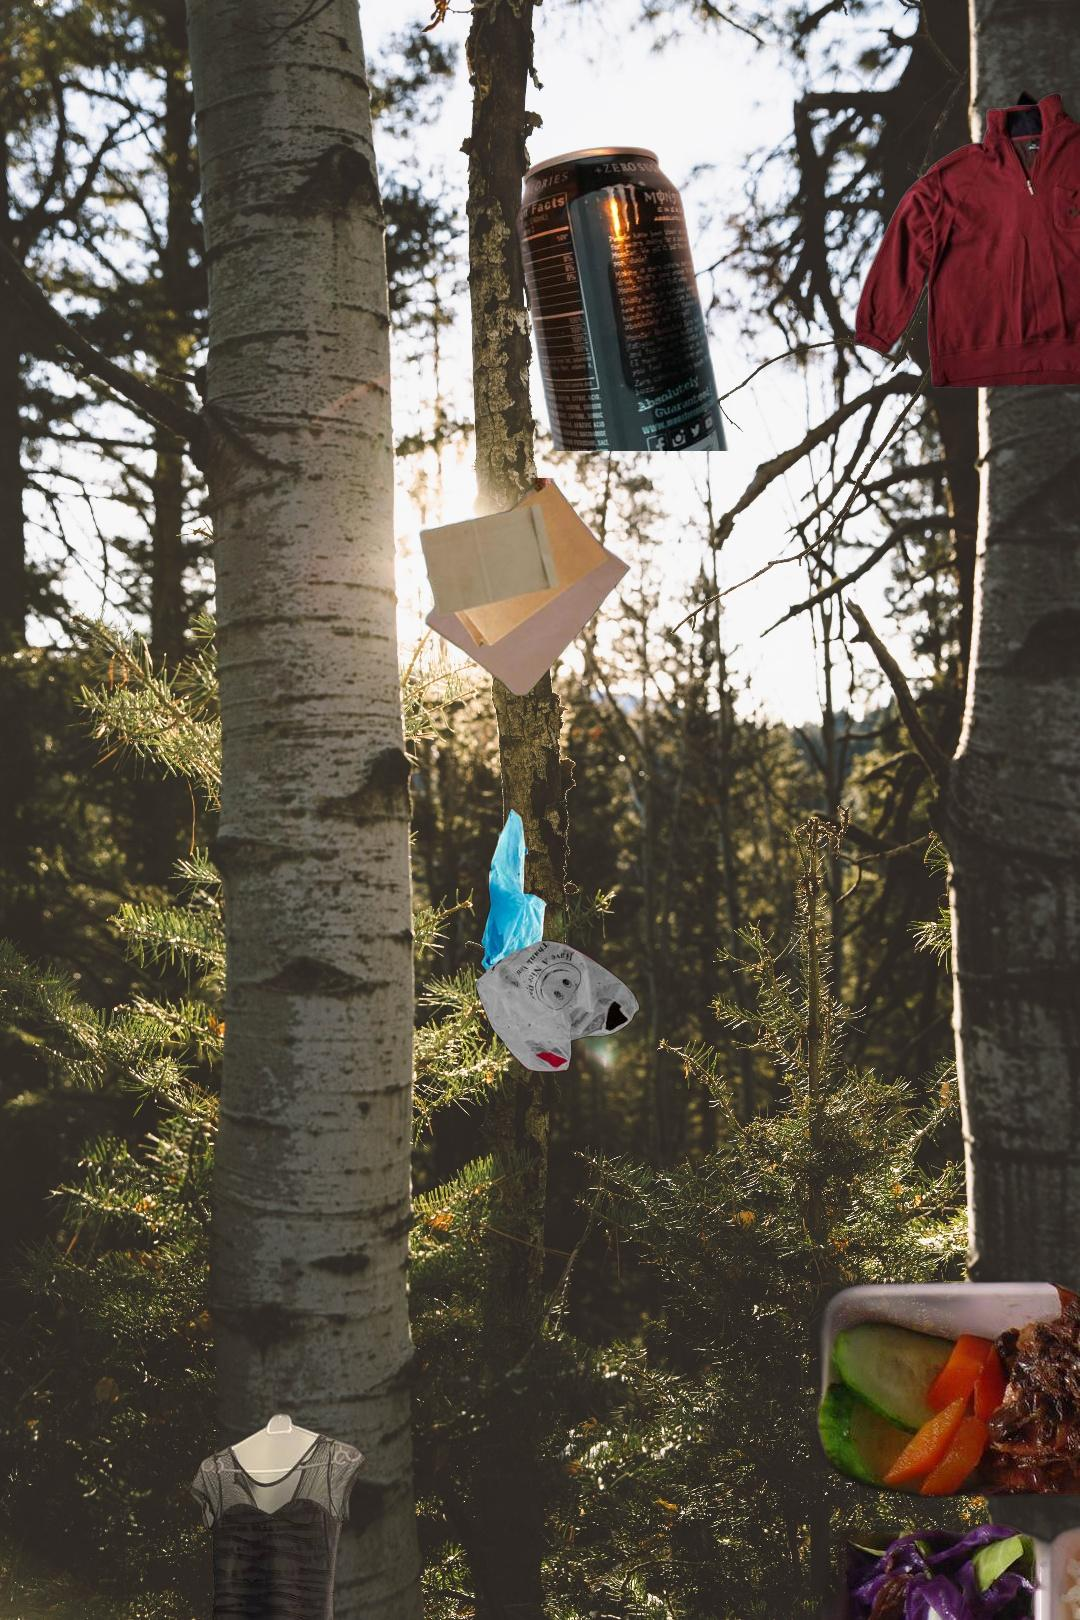biological: (808, 1274, 1080, 1620)
clothes: (850, 90, 1080, 391), (96, 1408, 374, 1620)
metal-cans: (510, 145, 732, 451)
paper-bag: (417, 479, 632, 699)
plastic-bag: (472, 805, 642, 1075)
plastic-bottles: (950, 87, 1080, 360), (981, 204, 1062, 329)
